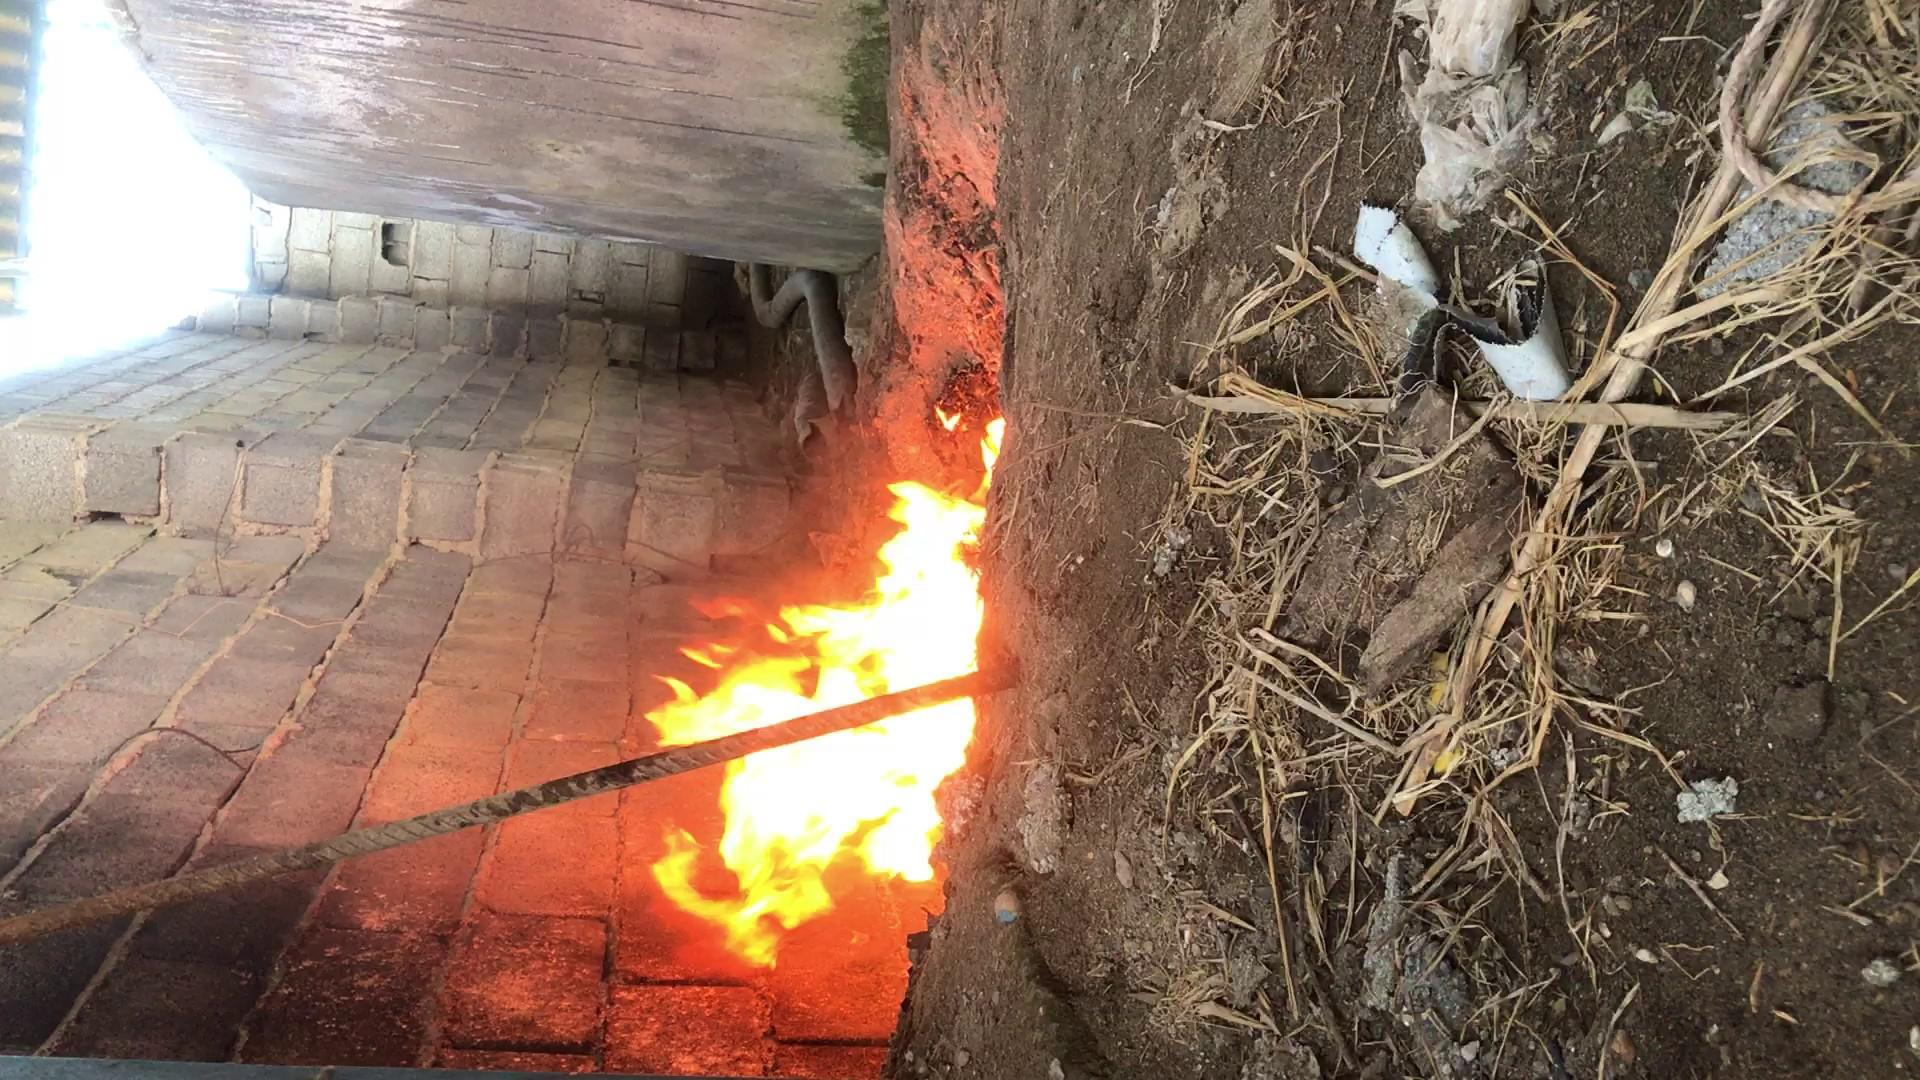fire: (289, 364, 1067, 571)
